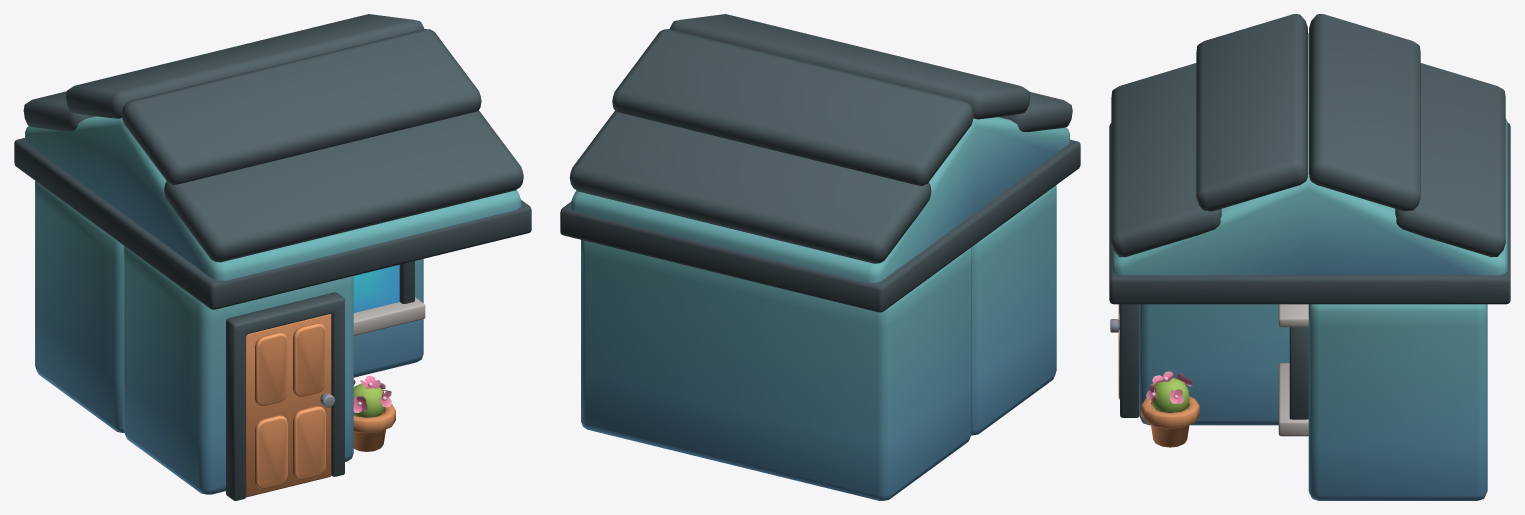
Rendered from mct_build_full_house02.fbx.
The picture shows the model from 3 angles, left to right: view 1: azimuth 30°, elevation 25°; view 2: azimuth 150°, elevation 25°; view 3: azimuth 270°, elevation 25°; orthographic projection.
Visible parts, largest first — view 1: mct_build_full_house_02, mct_door.002; view 2: mct_build_full_house_02; view 3: mct_build_full_house_02.
Boxes of the visible parts, box(x1,y1,x2,y2) form: mct_build_full_house_02: box(14, 14, 531, 500); mct_door.002: box(246, 314, 334, 497); mct_build_full_house_02: box(560, 14, 1080, 500); mct_build_full_house_02: box(1109, 14, 1510, 500).
Size of the model in its own units: 417 by 422 by 448.
